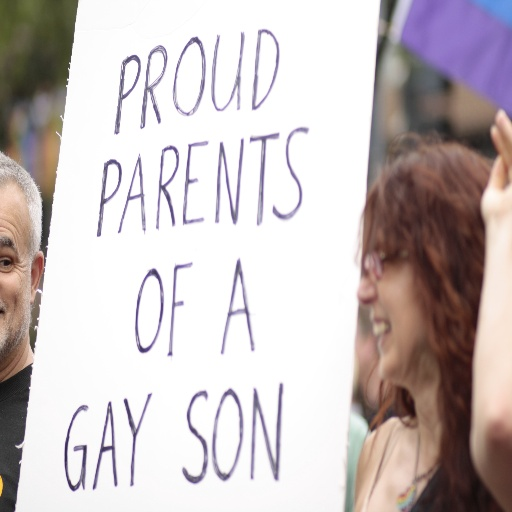hand: (479, 108, 511, 223)
